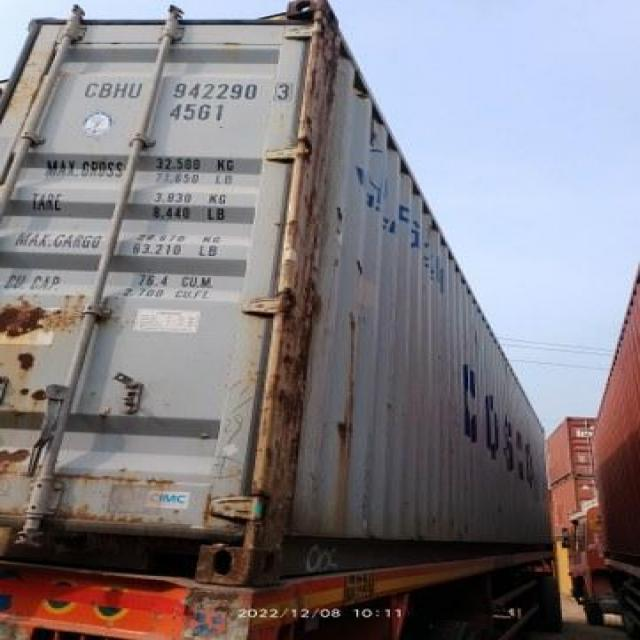ISO: (173, 101, 226, 123)
container_number: (76, 71, 287, 105)
